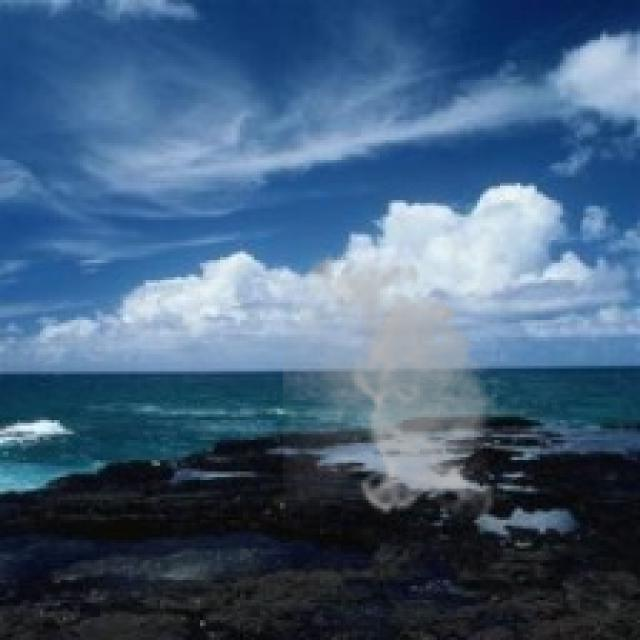smoke: (283, 246, 506, 517)
